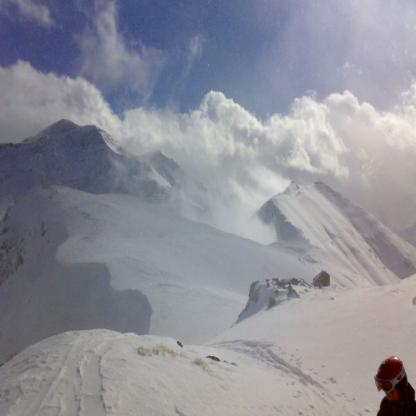Helmet: (376, 366, 410, 411)
